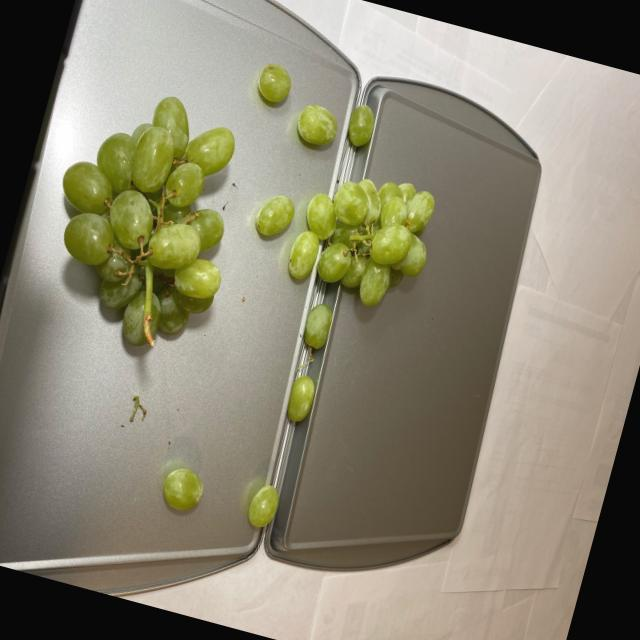grapes: (32, 29, 460, 408), (158, 455, 285, 536)
